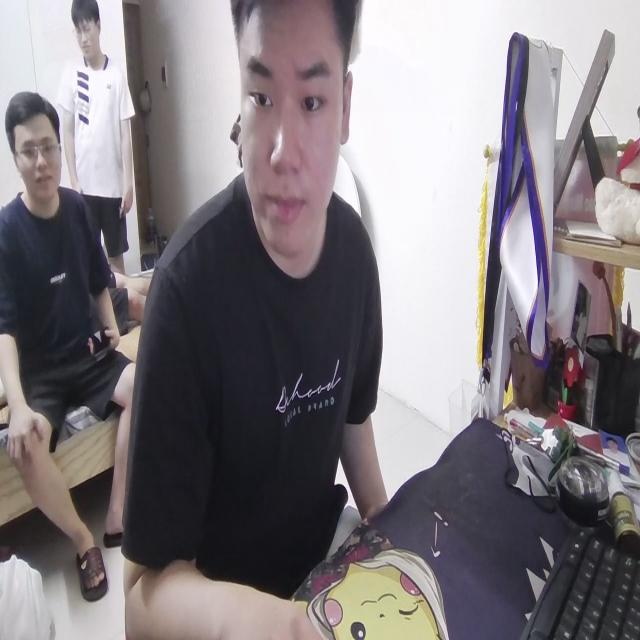extra_person: (1, 89, 140, 615), (60, 2, 134, 302)
student: (113, 0, 399, 640)
